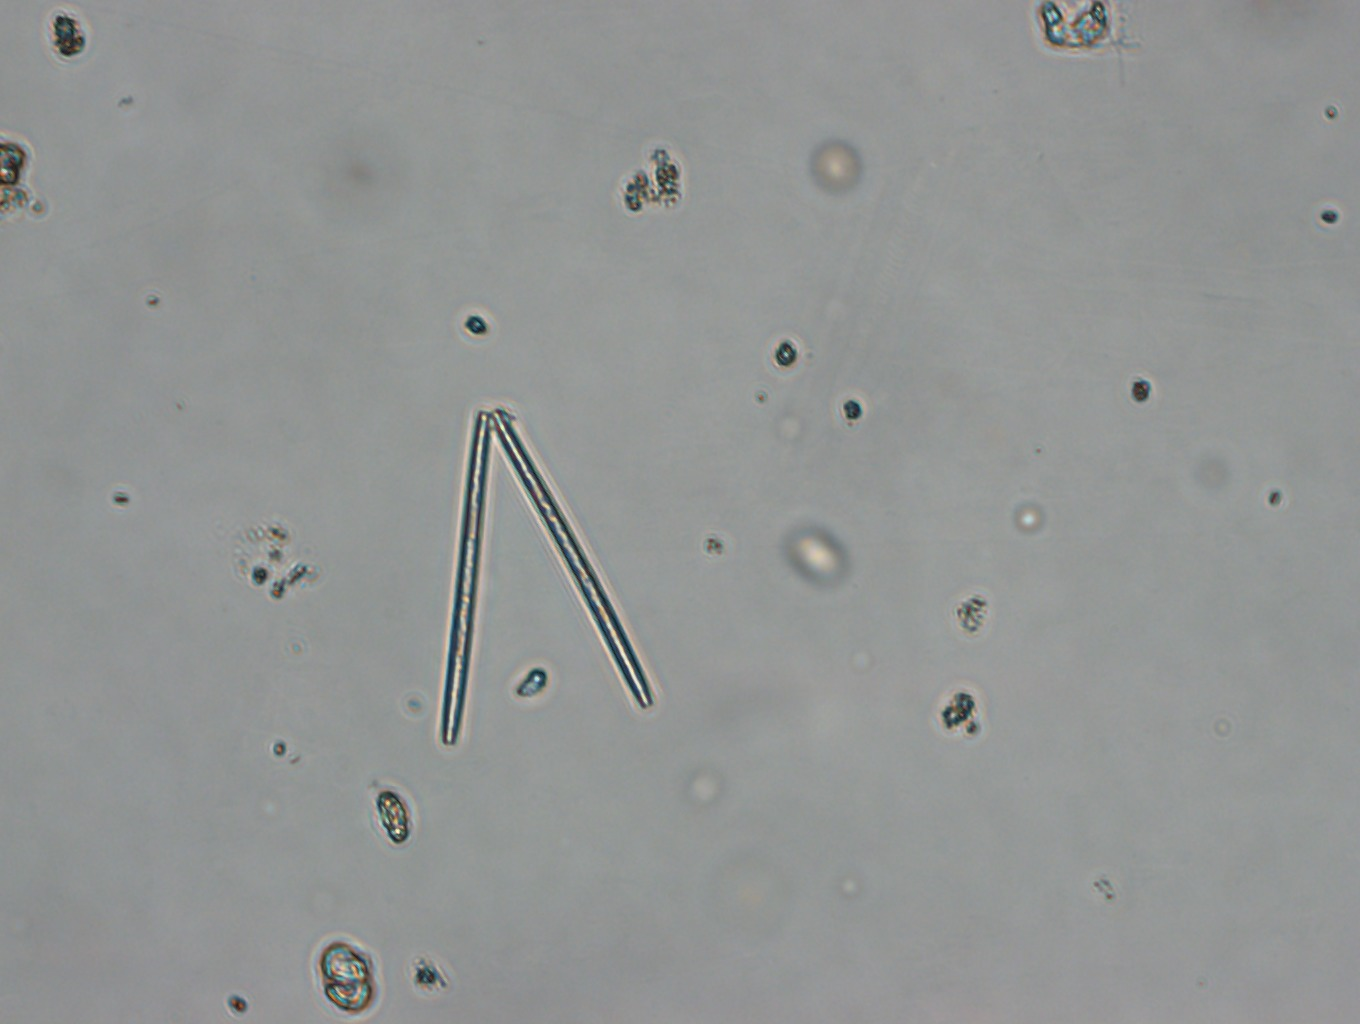thalassionema frauenfeldii: (434, 406, 656, 738)
